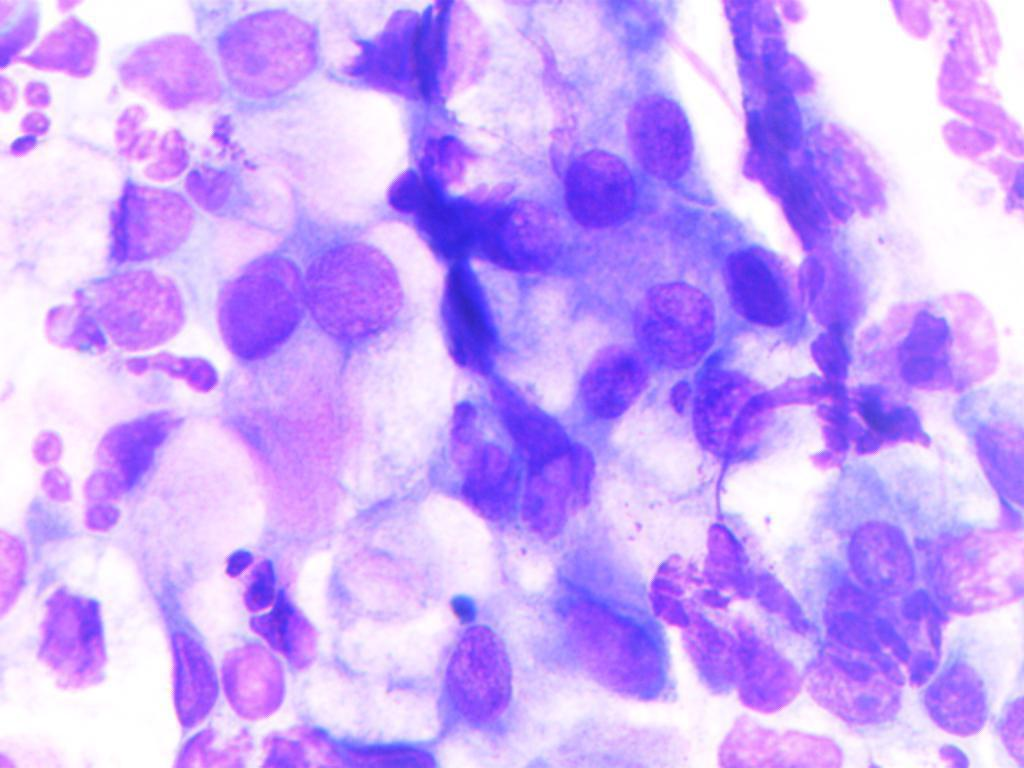epithelial: (209, 1, 328, 97), (109, 23, 220, 110), (89, 272, 192, 347)
goblet_cell: (206, 213, 306, 445), (308, 233, 407, 420), (12, 181, 193, 262)
metaplastic: (529, 582, 672, 718), (433, 618, 521, 739), (615, 74, 705, 183), (544, 133, 639, 235), (625, 276, 723, 372), (808, 648, 904, 730), (717, 242, 799, 336), (690, 376, 778, 461), (872, 594, 948, 686), (216, 632, 293, 721), (918, 663, 997, 740), (577, 340, 646, 416), (848, 521, 911, 591), (826, 583, 886, 652)
neutrophil: (82, 406, 183, 545), (218, 536, 325, 654), (95, 110, 214, 184), (18, 400, 82, 506), (1, 76, 56, 158)
